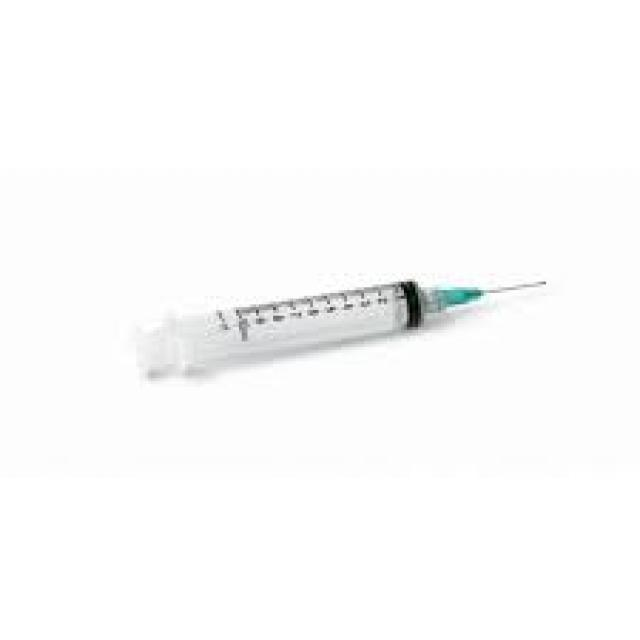syringe: (142, 254, 583, 388)
